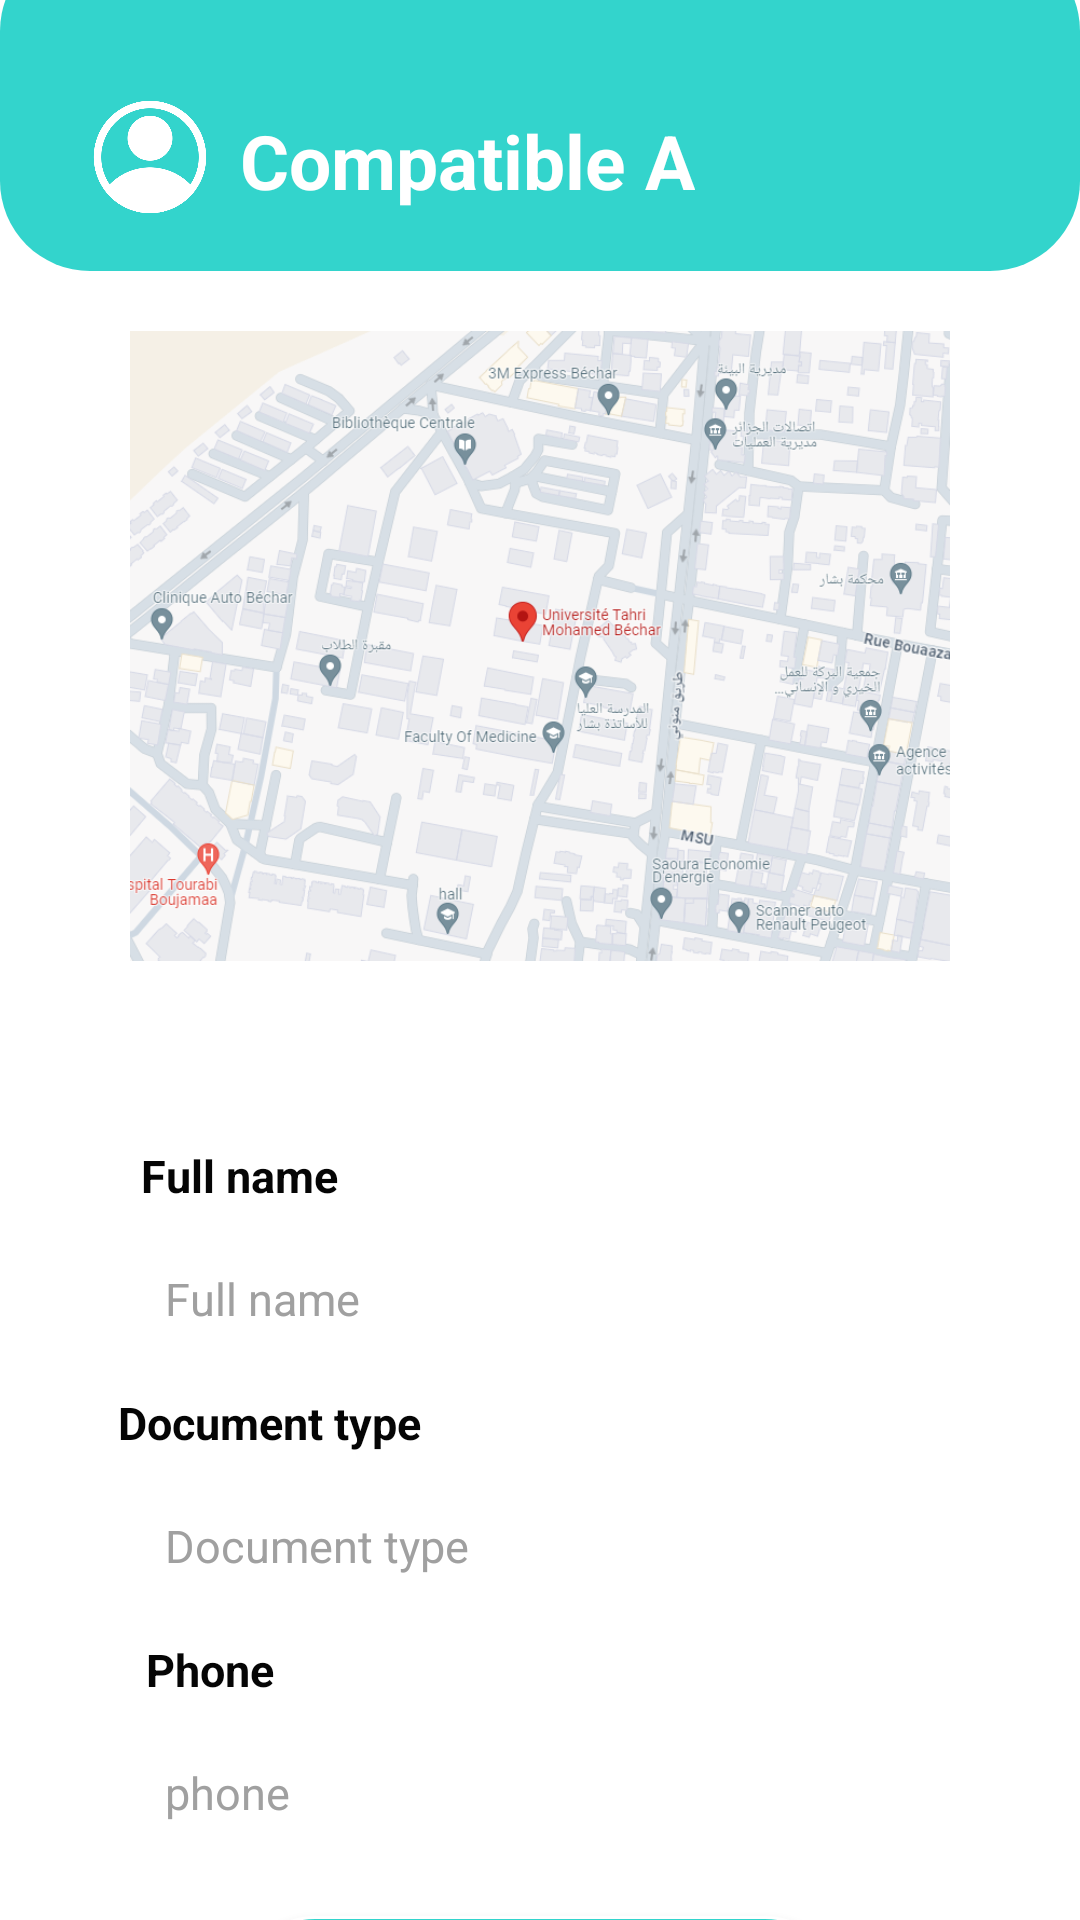

Icon click points for this 1080×1920 phone screenshot, format (x=x, y=y):
account: (x=150, y=157)
